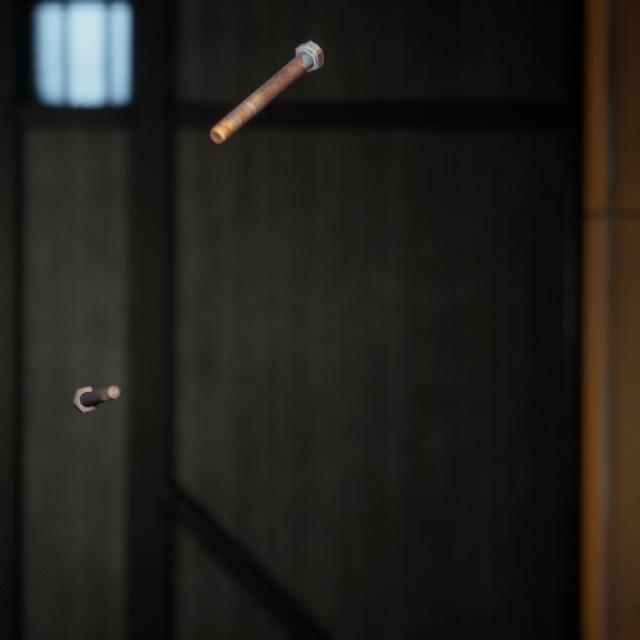bolt: (205, 25, 328, 136), (67, 360, 125, 399)
